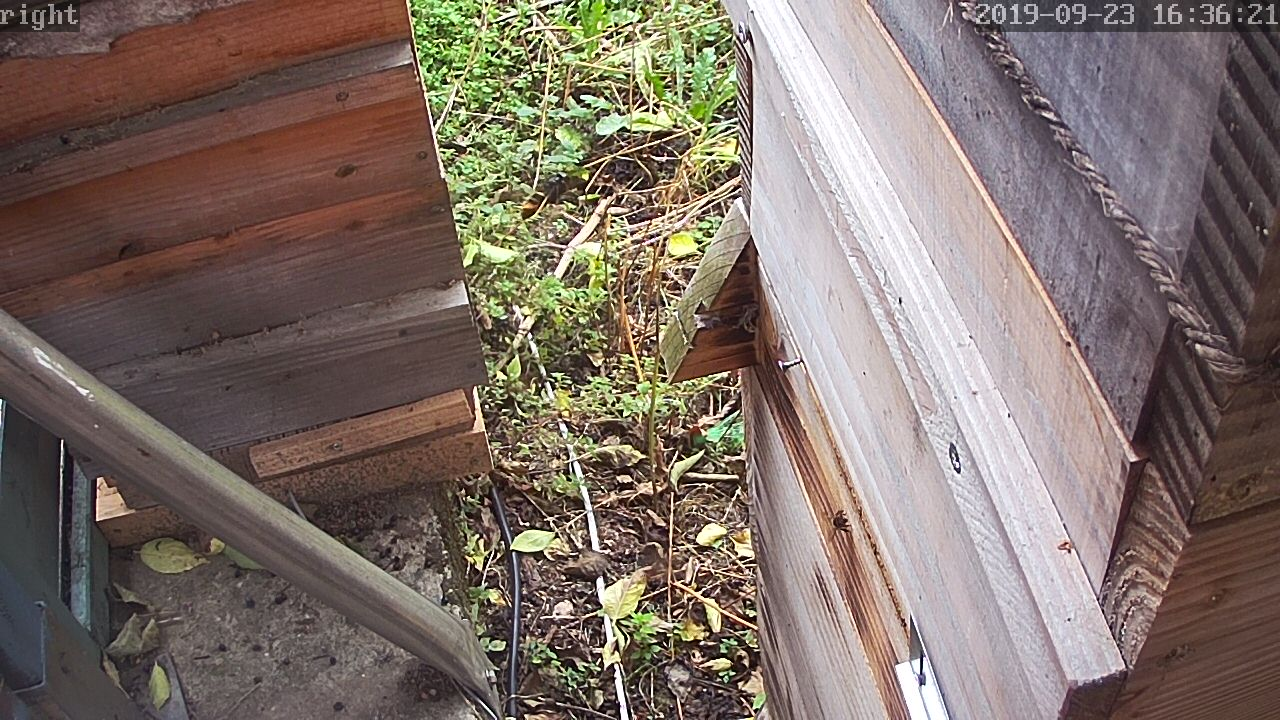bee: (822, 508, 855, 537)
hornet: (516, 170, 570, 222)
